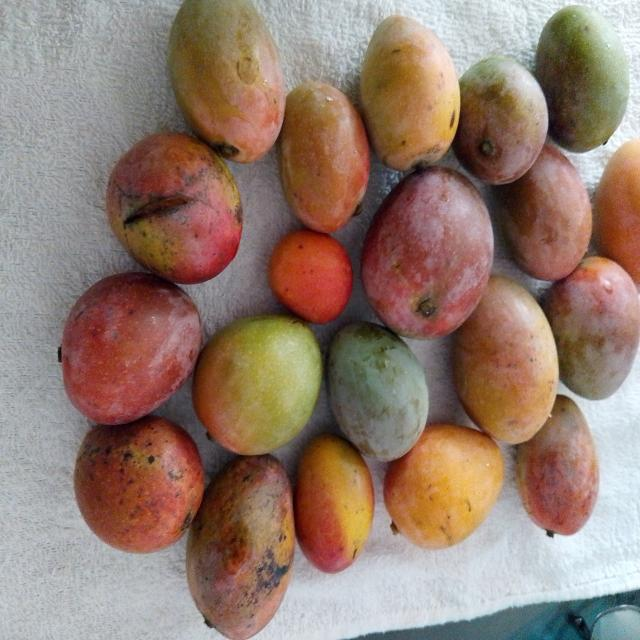mango: (104, 128, 250, 288), (56, 272, 204, 426), (361, 167, 493, 338), (187, 456, 295, 639), (169, 0, 285, 162), (74, 416, 204, 554), (193, 316, 322, 455), (452, 276, 558, 444), (360, 16, 459, 170), (384, 425, 503, 548), (327, 322, 428, 461), (535, 5, 629, 152), (279, 82, 369, 233), (544, 257, 639, 399), (495, 145, 591, 280), (454, 57, 547, 184), (516, 395, 599, 535), (294, 434, 374, 573), (595, 139, 639, 285)
